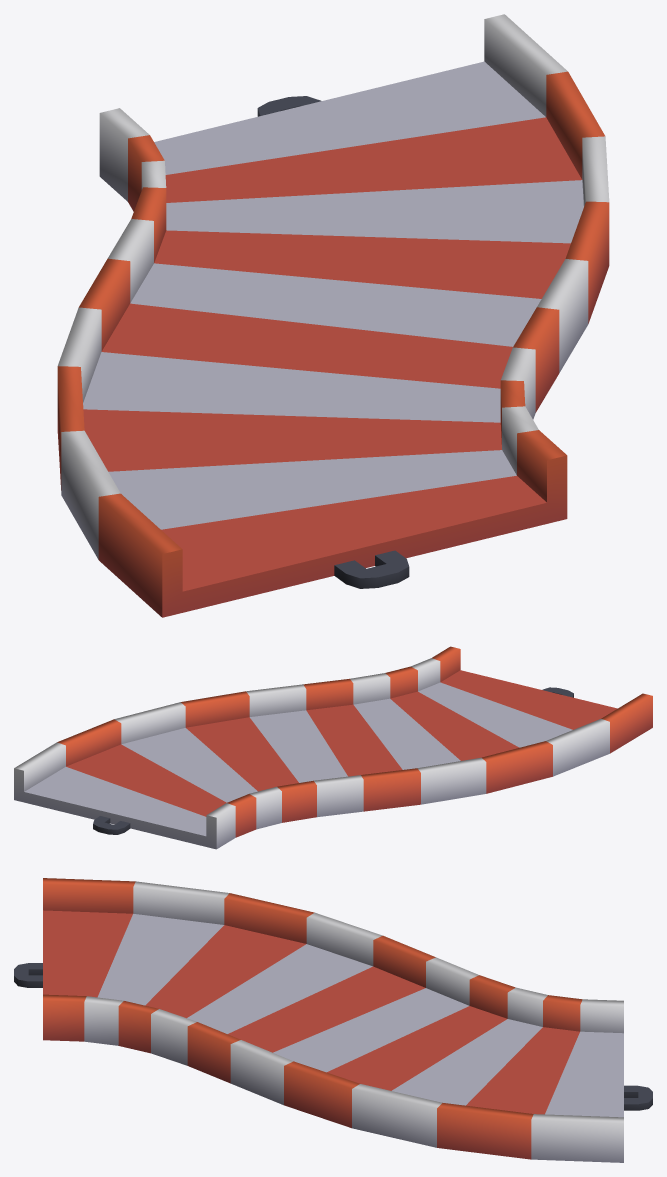
File: track-striped-wide-curve.glb
3 renders of one model, top to bottom at view 1: azimuth 30°, elevation 25°; view 2: azimuth 150°, elevation 25°; view 3: azimuth 270°, elevation 25°, orthographic. The views are drawn at different scales.
Parts seen in each view (by area): view 1: track-striped-wide-curve; view 2: track-striped-wide-curve; view 3: track-striped-wide-curve.
Boxes of the visible parts, box(x1,y1,x2,y2) form: track-striped-wide-curve: box(57, 14, 609, 617); track-striped-wide-curve: box(14, 646, 652, 849); track-striped-wide-curve: box(14, 878, 652, 1162).
Bounding box in the file's own units: 4 × 0.3 × 4.4.
